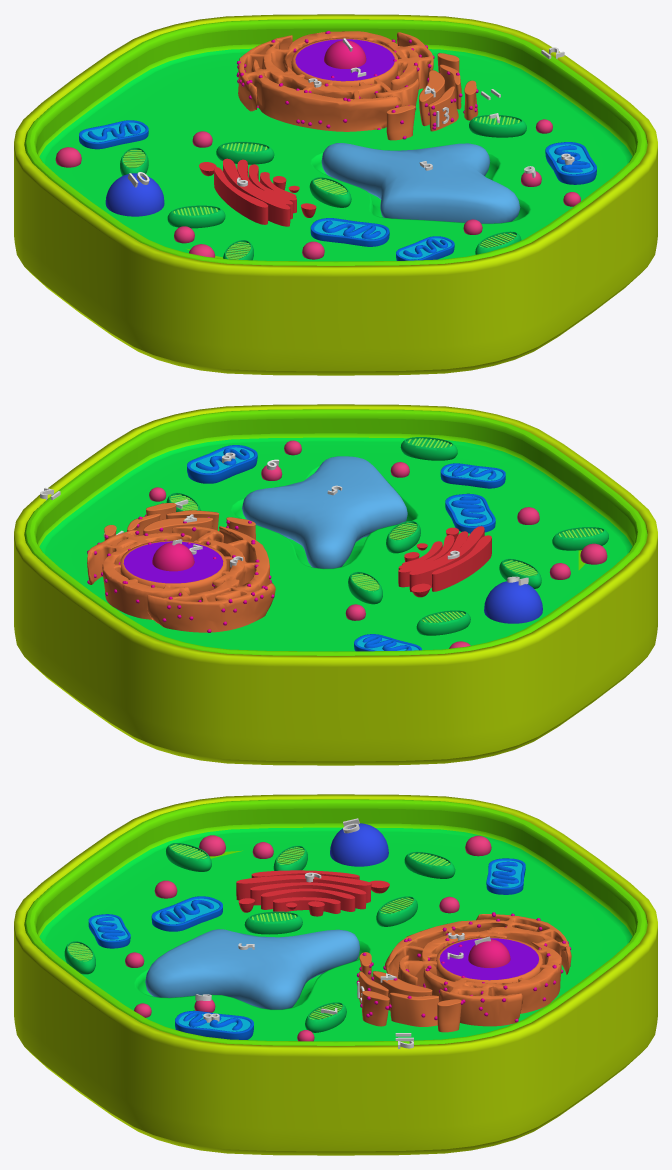
The model's file is plantcell.glb.
3 renders of one model, top to bottom at view 1: azimuth 30°, elevation 25°; view 2: azimuth 150°, elevation 25°; view 3: azimuth 270°, elevation 25°, orthographic.
Parts seen in each view (by area): view 1: Cylinder.006, Cylinder, Sphere.001, Cube.001, Cube, Sphere, Cylinder.002, Sphere.004, Cylinder.003, Cylinder.004, Cylinder.005, Sphere.006 (+7 smaller); view 2: Cylinder.006, Cylinder, Sphere.001, Cube.001, Cube, Sphere, Cylinder.002, Sphere.004, Cylinder.004, Cylinder.003, Cylinder.001, Sphere.009 (+7 smaller); view 3: Cylinder.006, Cylinder, Sphere.001, Cube.001, Cube, Sphere, Cylinder.002, Sphere.004, Cylinder.003, Cylinder.004, Cylinder.005, Cylinder.001 (+8 smaller).
Boxes of the visible parts, box(x1,y1,x2,y2) form: Cylinder.006: box(14, 14, 657, 375); Cylinder: box(24, 19, 647, 265); Sphere.001: box(236, 31, 478, 140); Cube.001: box(321, 143, 520, 223); Cube: box(199, 158, 316, 226); Sphere: box(291, 37, 398, 89); Cylinder.002: box(55, 119, 580, 259); Sphere.004: box(105, 173, 164, 216); Cylinder.003: box(310, 218, 389, 246); Cylinder.004: box(545, 142, 596, 184); Cylinder.005: box(79, 120, 148, 149); Sphere.006: box(167, 205, 225, 228); Cylinder.006: box(14, 404, 657, 765); Cylinder: box(24, 409, 647, 655); Sphere.001: box(87, 503, 275, 632); Cube.001: box(242, 456, 407, 568); Cube: box(398, 526, 491, 597); Sphere: box(120, 540, 226, 595); Cylinder.002: box(149, 440, 607, 648); Sphere.004: box(484, 581, 542, 623); Cylinder.004: box(187, 445, 257, 483); Cylinder.003: box(445, 493, 495, 533); Cylinder.001: box(440, 463, 505, 488); Sphere.009: box(400, 437, 457, 460); Cylinder.006: box(14, 794, 657, 1155); Cylinder: box(24, 799, 647, 1045); Sphere.001: box(356, 912, 571, 1032); Cube.001: box(145, 929, 359, 1009); Cube: box(236, 870, 389, 916); Sphere: box(436, 936, 542, 983); Cylinder.002: box(125, 835, 491, 1041); Sphere.004: box(330, 823, 388, 866); Cylinder.003: box(151, 896, 222, 931); Cylinder.004: box(175, 1010, 253, 1039); Cylinder.005: box(486, 858, 525, 894); Cylinder.001: box(88, 914, 130, 948).
Bounding box in the file's own units: 305 × 76.57 × 325.
